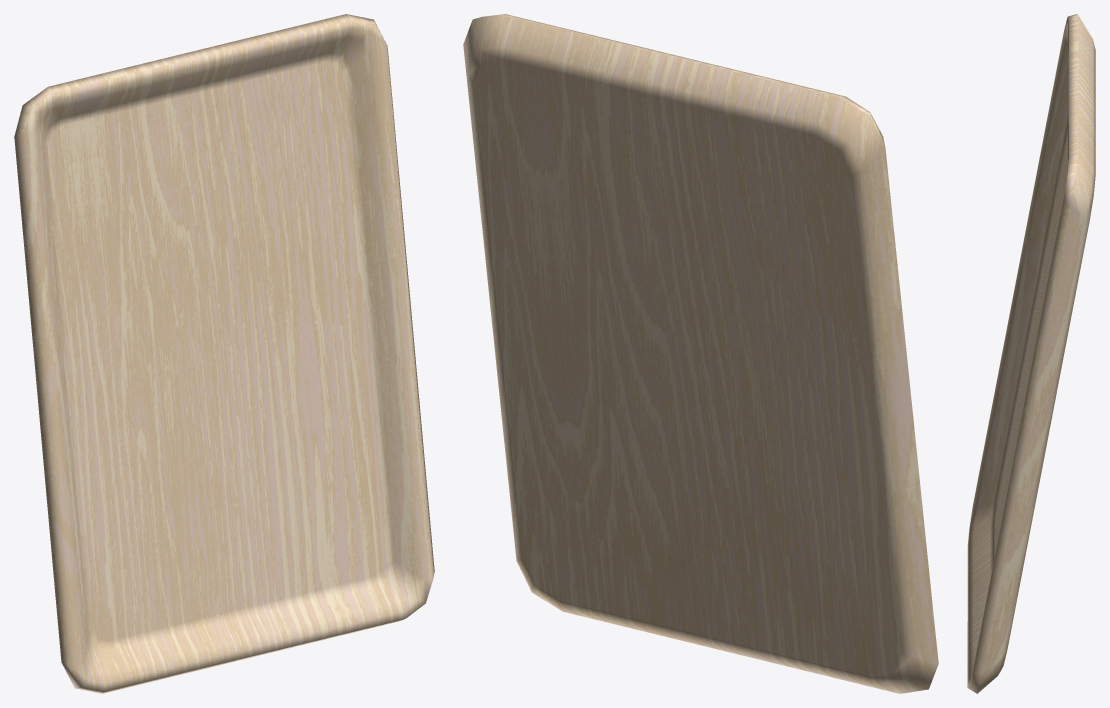
The model's file is prop_009.fbx.
The picture shows the model from 3 angles, left to right: view 1: azimuth 30°, elevation 25°; view 2: azimuth 150°, elevation 25°; view 3: azimuth 270°, elevation 25°; orthographic projection. The views are drawn at different scales.
Visible parts, largest first — view 1: prop_009; view 2: prop_009; view 3: prop_009.
Boxes of the visible parts, x1=… form: prop_009: x1=14, y1=14, x2=434, y2=693; prop_009: x1=463, y1=14, x2=938, y2=693; prop_009: x1=967, y1=14, x2=1095, y2=693.
Size of the model in its own units: 26.22 by 8.21 by 38.09.
